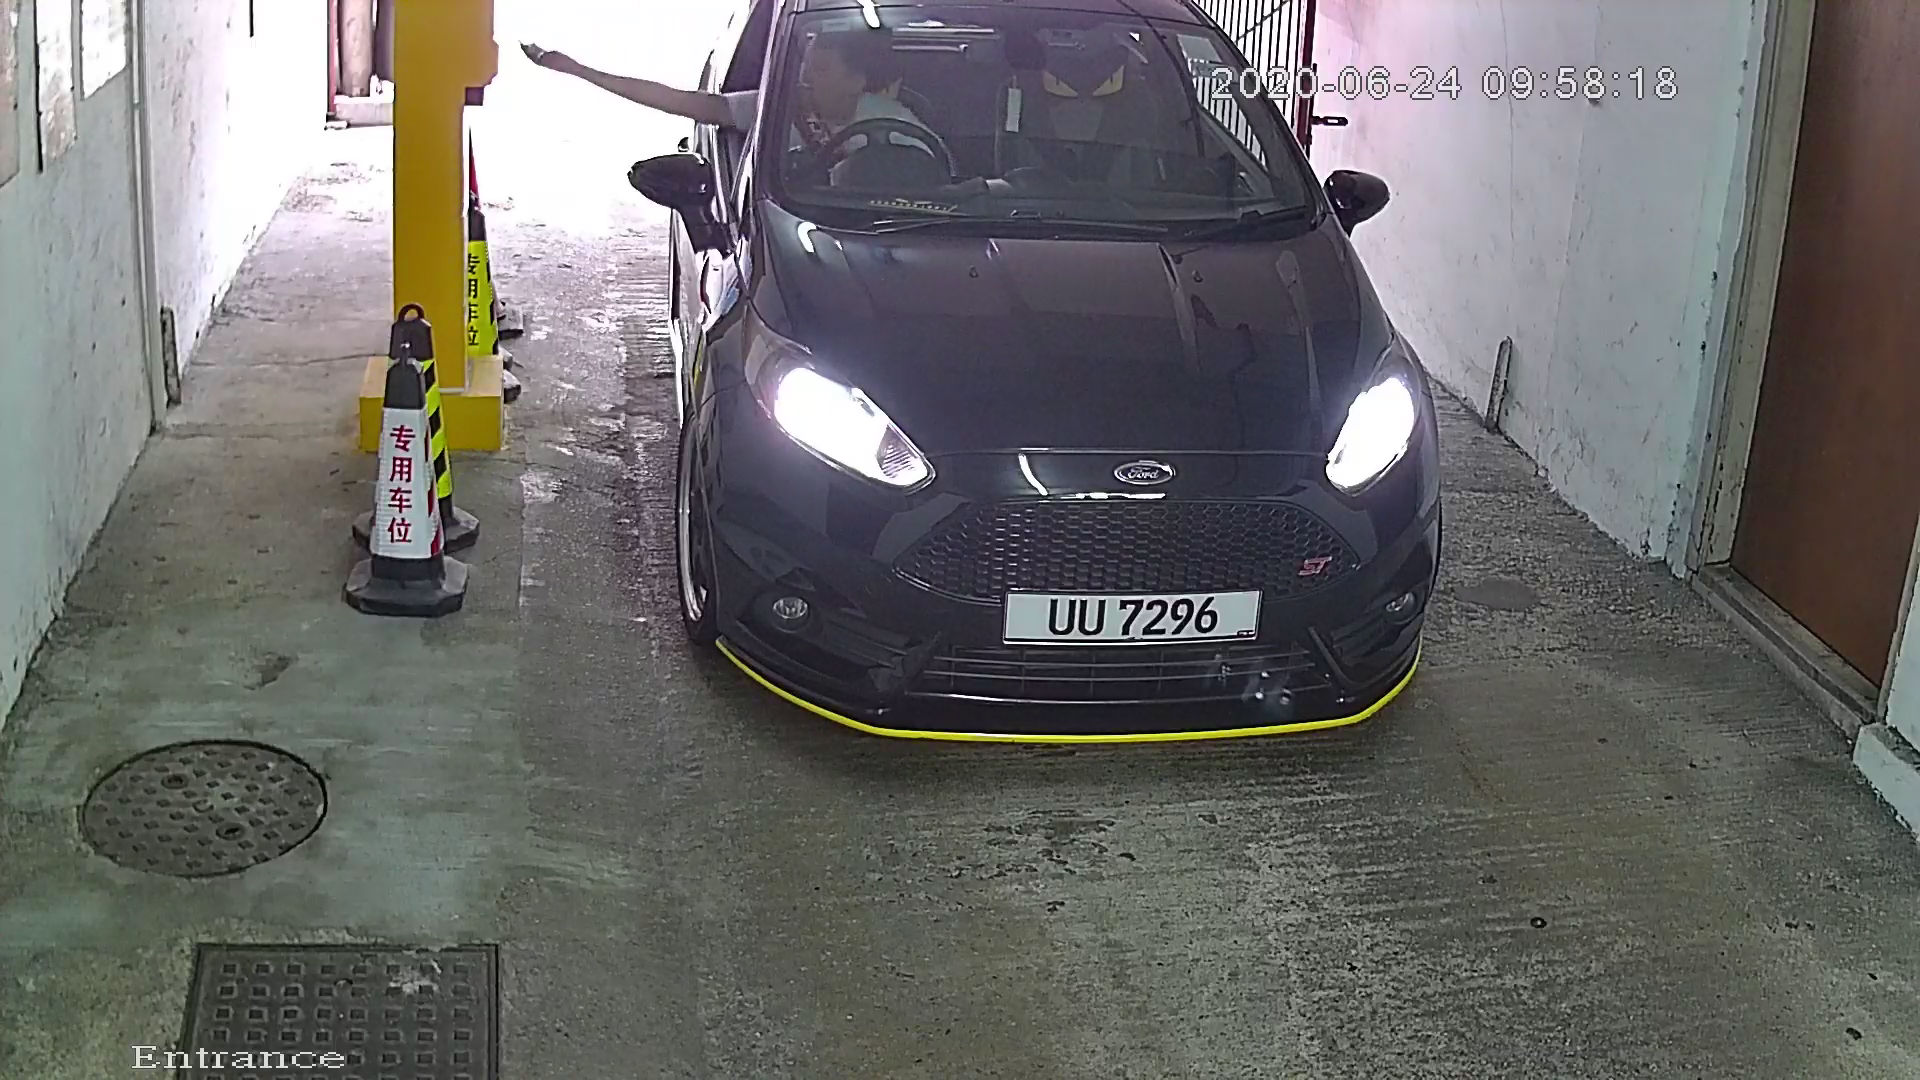Car: (618, 1, 1474, 824)
License Plate: (985, 577, 1286, 660)
